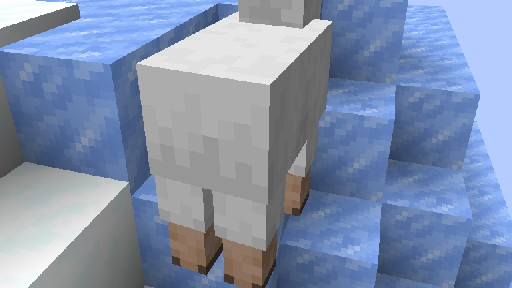sheep: (135, 0, 333, 288)
